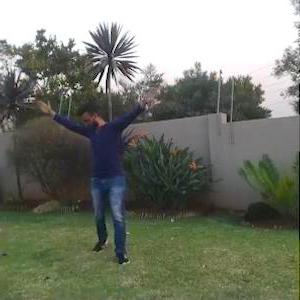takeoff: (35, 87, 159, 266)
